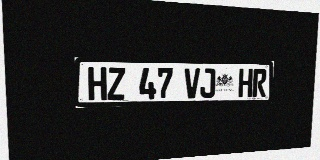4: (139, 68, 156, 99)
7: (157, 68, 173, 99)
H: (88, 67, 107, 100), (238, 69, 253, 97)
J: (200, 68, 216, 98)
R: (252, 69, 267, 97)
V: (184, 68, 200, 98)
Z: (107, 67, 125, 100)
